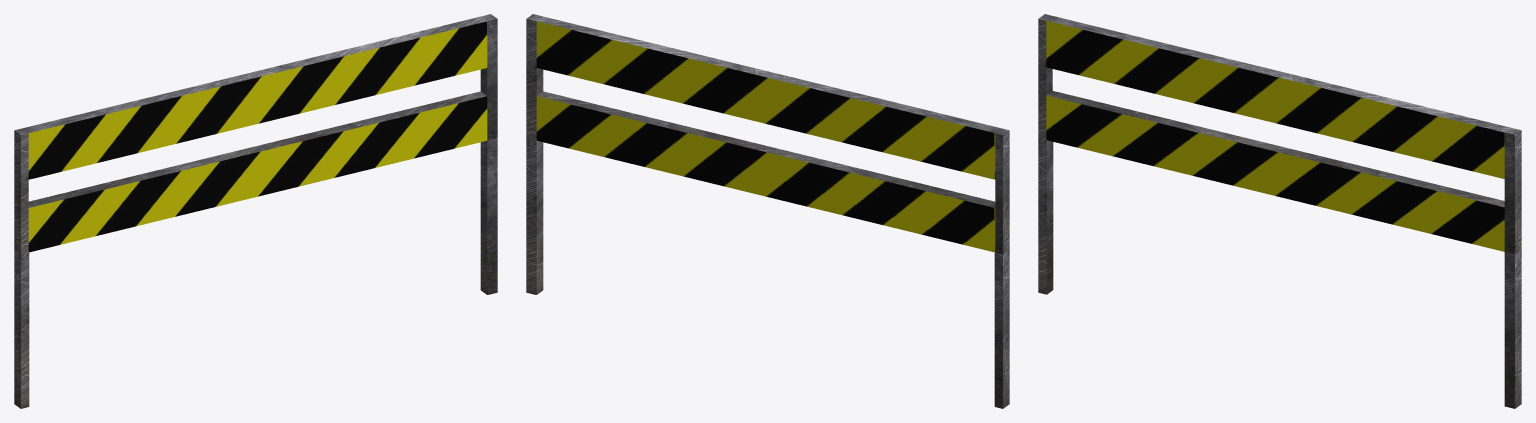
File: road_block.obj
3 views of the same model, side by side, from view 1: azimuth 30°, elevation 25°; view 2: azimuth 150°, elevation 25°; view 3: azimuth 330°, elevation 25° (orthographic).
Parts seen in each view (by area): view 1: Box001; view 2: Box001; view 3: Box001.
Part boxes in pixels (bbox=[...]): Box001: bbox=[14, 14, 497, 408]; Box001: bbox=[526, 14, 1009, 408]; Box001: bbox=[1038, 14, 1521, 408].
Size of the model in its own units: 32.91 by 18.07 by 0.7874.
